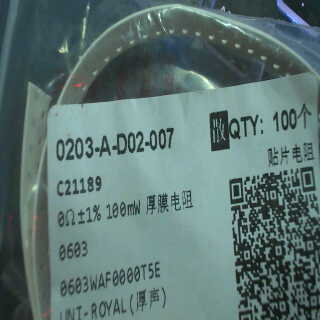0R: (55, 195, 143, 263)
